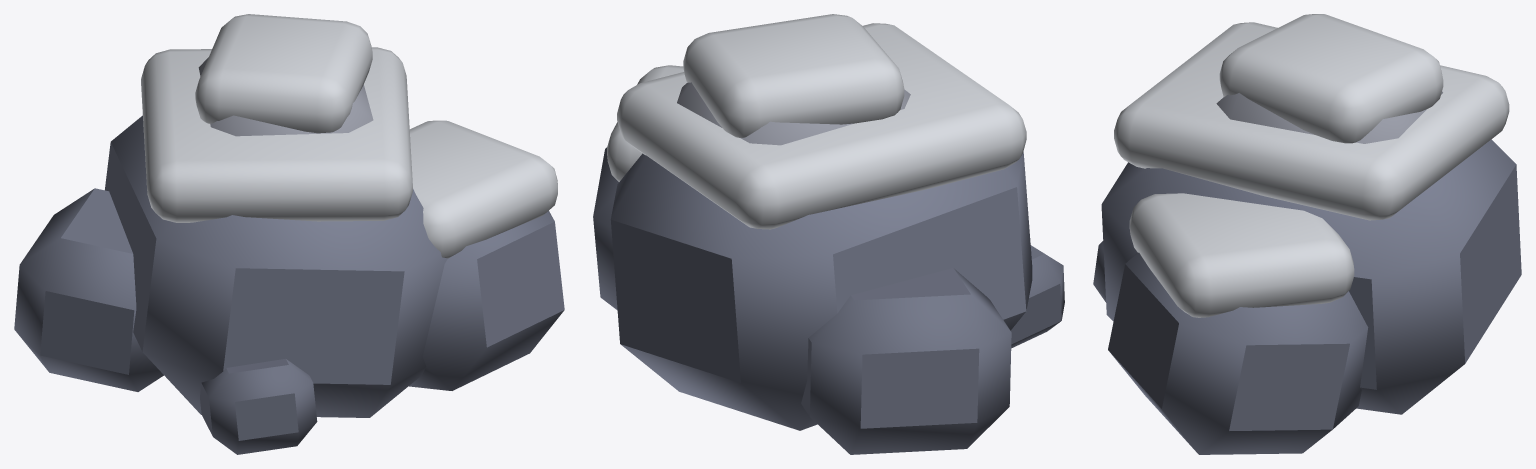
File: p_rock_snow_1.glb
The picture shows the model from 3 angles, left to right: view 1: azimuth 30°, elevation 25°; view 2: azimuth 150°, elevation 25°; view 3: azimuth 270°, elevation 25°; orthographic projection. The views are drawn at different scales.
Visible parts, largest first — view 1: body; view 2: body; view 3: body.
Part boxes in pixels (box(x1,y1,x2,y2)): body: box(14, 14, 564, 454); body: box(593, 14, 1064, 454); body: box(1093, 14, 1521, 454).
Bounding box in the file's own units: 2.66 × 1.84 × 2.15.
